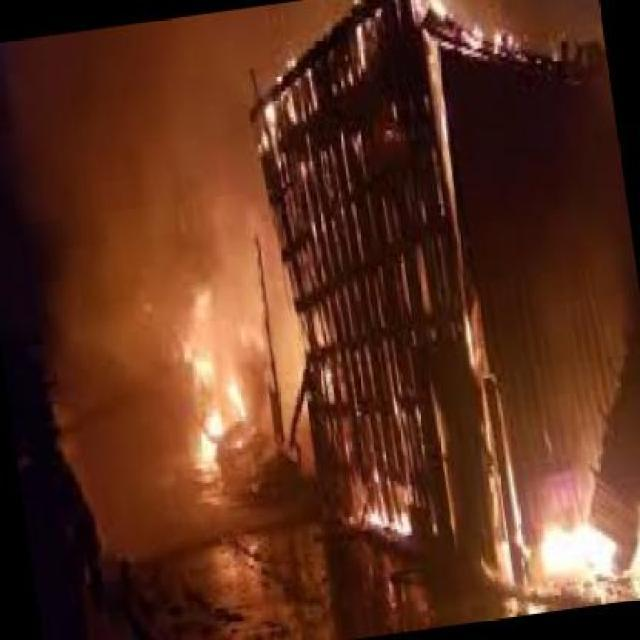Fire: (165, 314, 254, 488), (491, 508, 640, 606), (361, 487, 415, 535)
Smoke: (34, 54, 296, 268), (36, 304, 146, 492)
